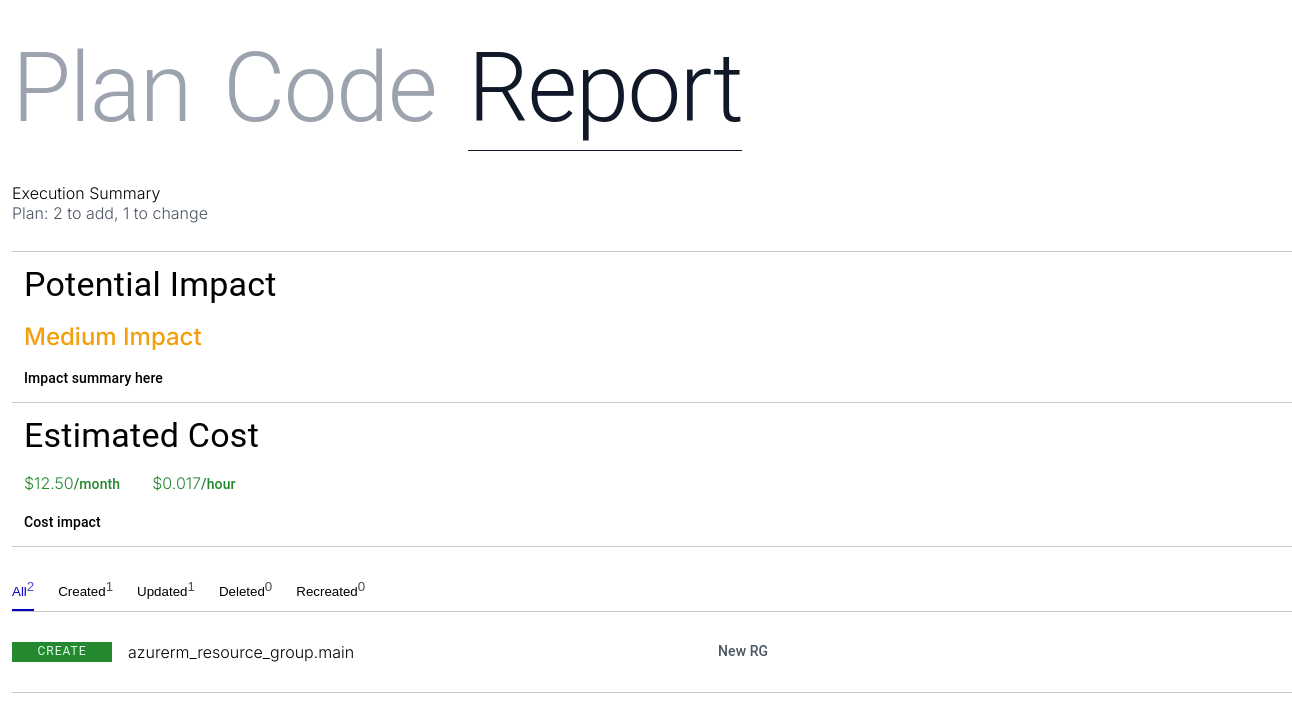
Test case: ResultPanel › opens impact detail when impact card clicked
Click the heading "Medium Impact" at (113, 336), box [24,322,202,351]
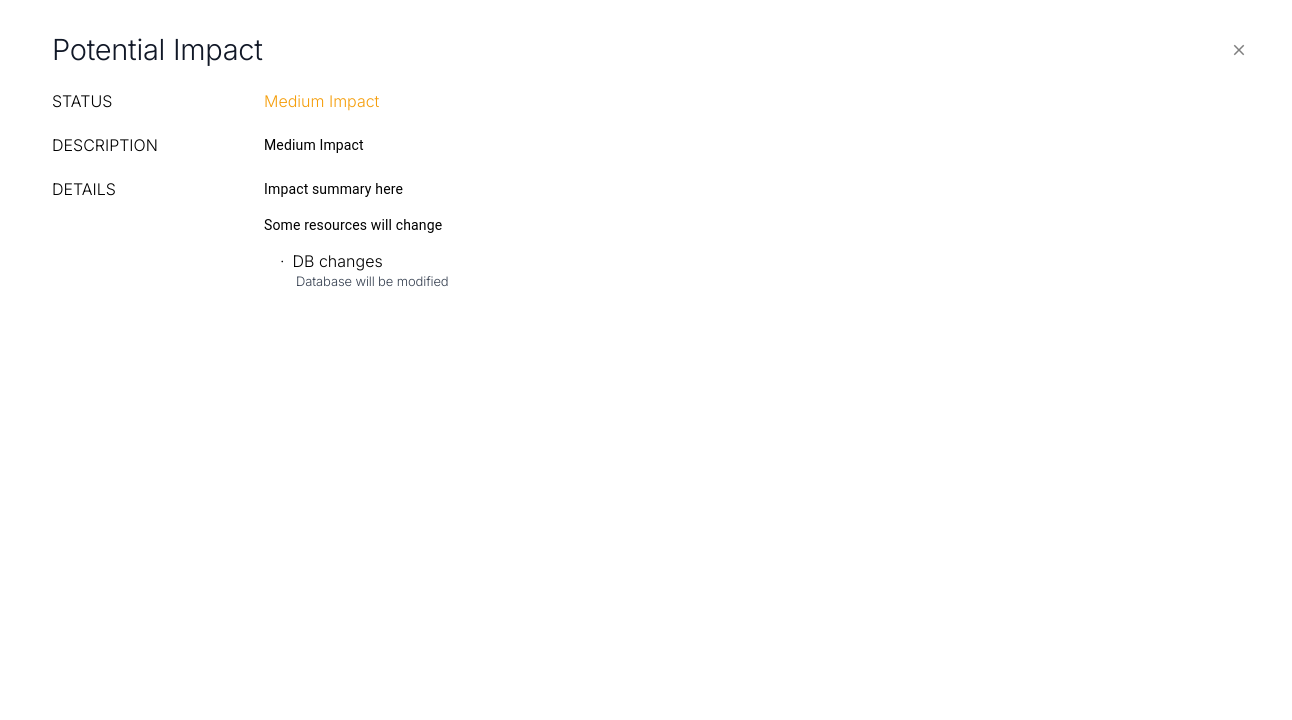
Expected: the text "DB changes" is shown, [292,251,383,271]
Expected: the text "Database will be modified" is shown, [296,273,448,289]
